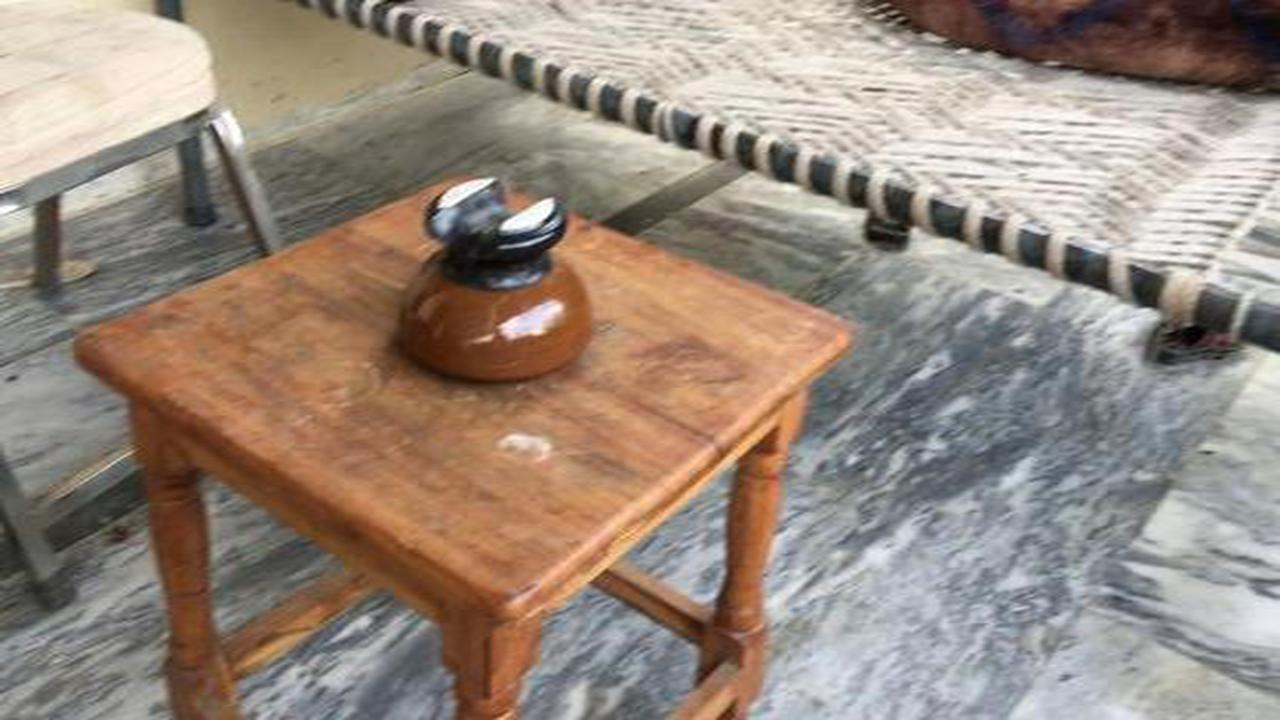insulator_pin: (373, 157, 619, 399)
